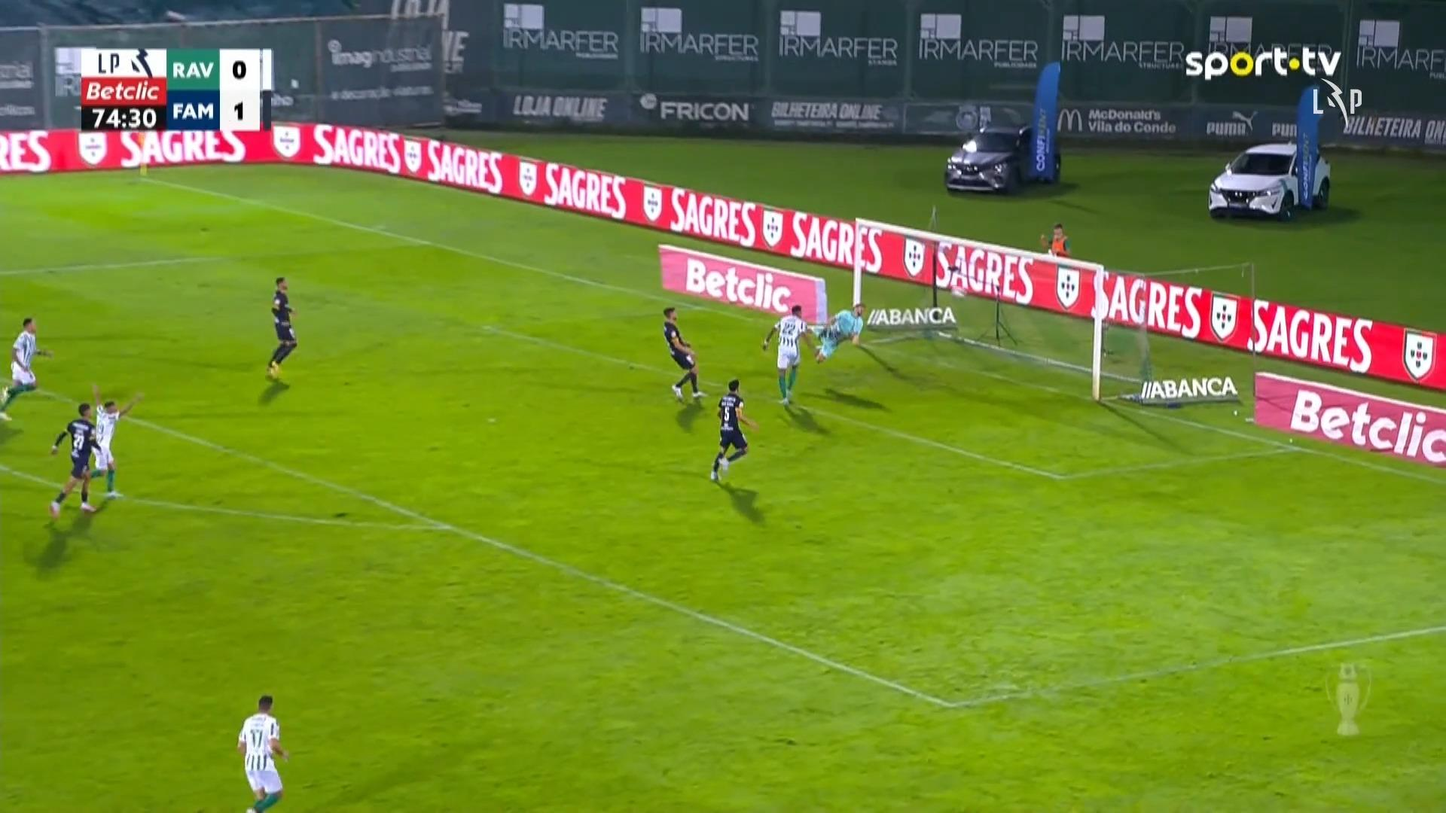goalkeeper: (811, 301, 866, 363)
player: (47, 401, 105, 520), (84, 382, 143, 498), (236, 694, 289, 811), (0, 316, 53, 422), (761, 303, 813, 405), (709, 378, 758, 483), (661, 306, 708, 403), (264, 276, 297, 381)
